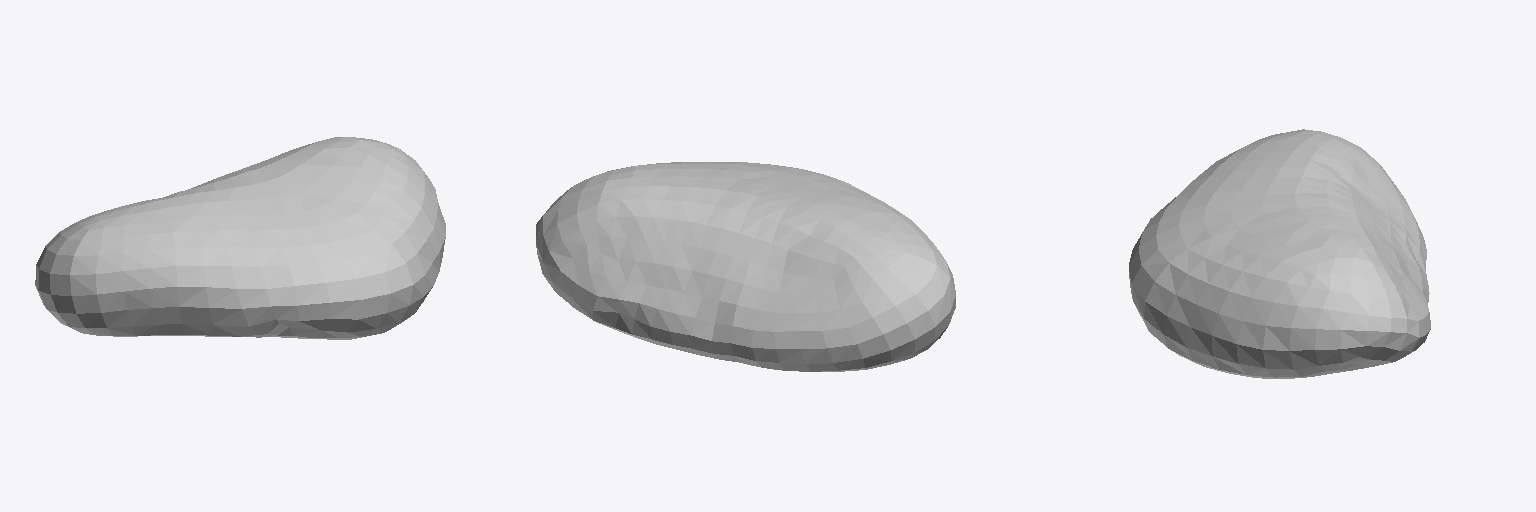
Rendered from stone.obj.
3 views of the same model, side by side, from view 1: azimuth 30°, elevation 25°; view 2: azimuth 150°, elevation 25°; view 3: azimuth 270°, elevation 25° (orthographic).
Visible parts, largest first — view 1: 10123_stone_lp; view 2: 10123_stone_lp; view 3: 10123_stone_lp.
Part boxes in pixels (bbox=[...]): 10123_stone_lp: bbox=[35, 137, 445, 339]; 10123_stone_lp: bbox=[536, 162, 955, 371]; 10123_stone_lp: bbox=[1129, 129, 1430, 378].
Bounding box in the file's own units: 22.06 × 7.13 × 14.9.